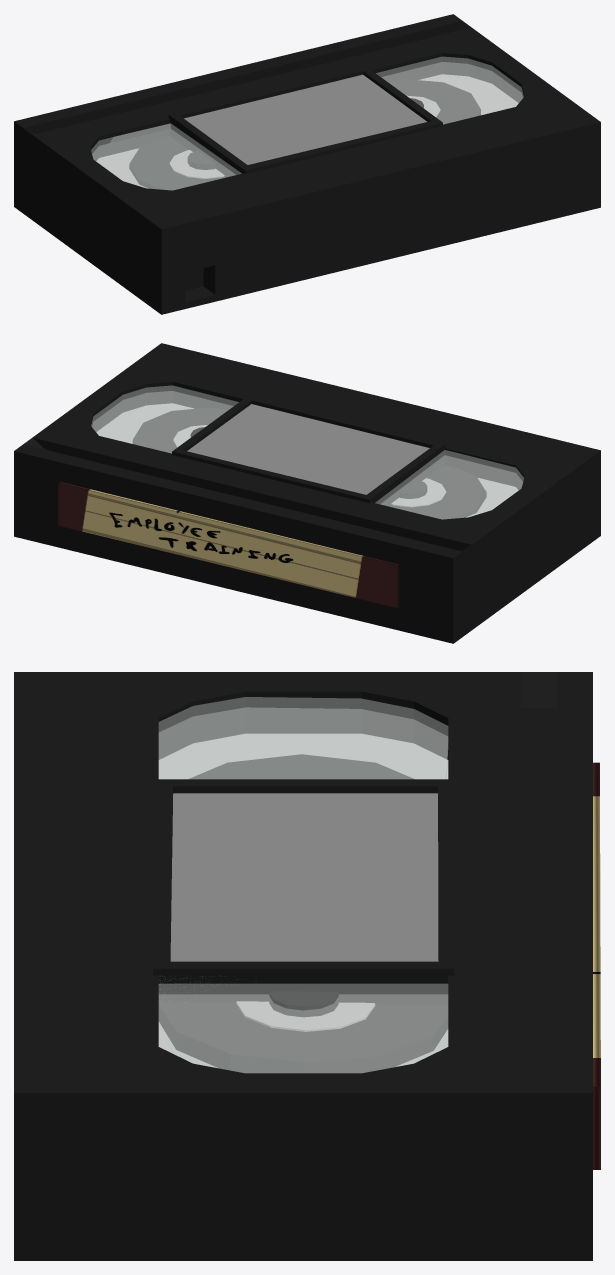
Rendered from vhs tape.fbx.
The picture shows the model from 3 angles, top to bottom: view 1: azimuth 30°, elevation 25°; view 2: azimuth 150°, elevation 25°; view 3: azimuth 270°, elevation 25°; orthographic projection. The views are drawn at different scales.
Visible parts, largest first — view 1: vhs_tape; view 2: vhs_tape; view 3: vhs_tape.
Part boxes in pixels (box(x1,y1,x2,y2)): vhs_tape: box(14, 14, 600, 314); vhs_tape: box(14, 343, 600, 643); vhs_tape: box(14, 672, 600, 1260).
Bounding box in the file's own units: 25.13 × 4.87 × 14.81.
